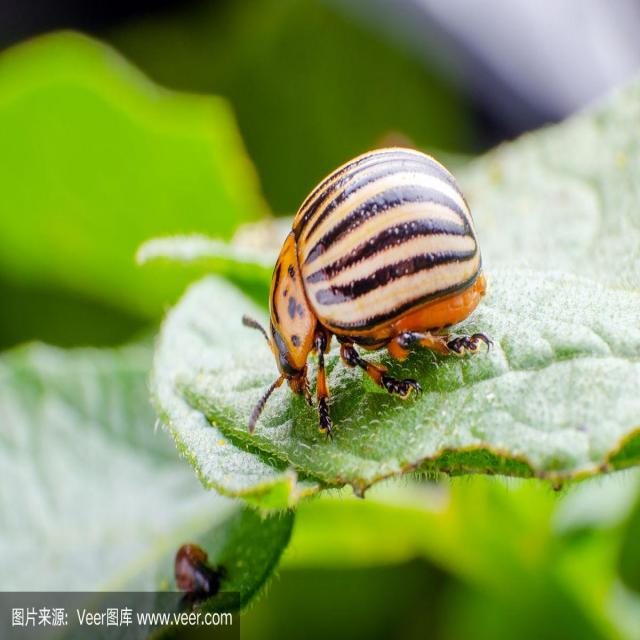ShuCaiHuaBanChong-Grown-: (258, 141, 481, 409)
